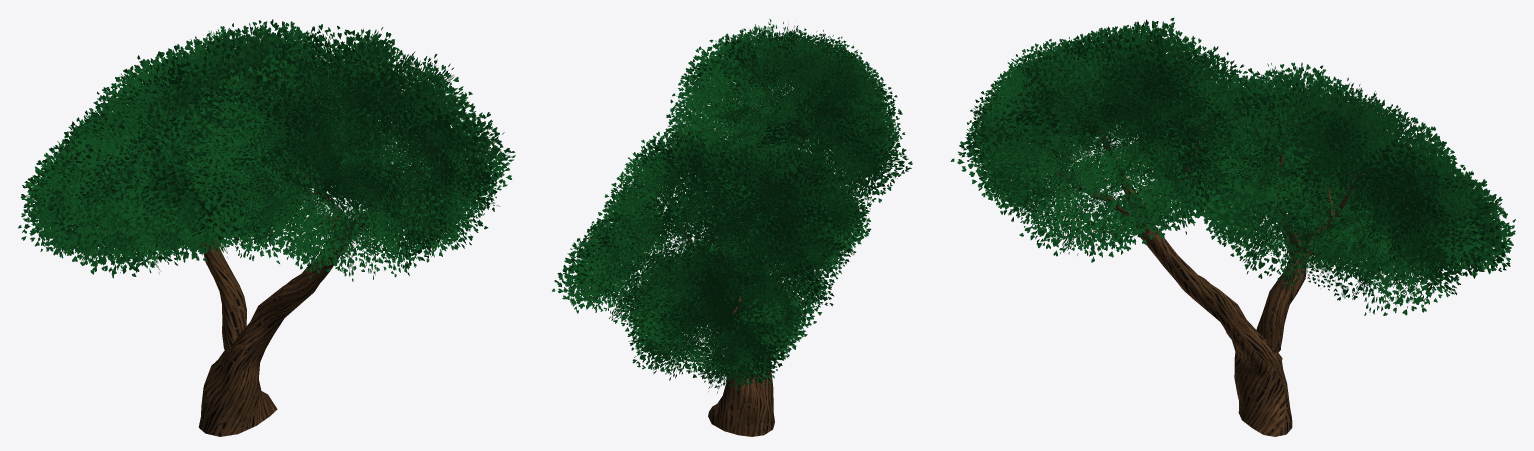
Rendered from Cay 2 - LOD 0.fbx.
3 views of the same model, side by side, from view 1: azimuth 30°, elevation 25°; view 2: azimuth 150°, elevation 25°; view 3: azimuth 270°, elevation 25° (orthographic). The views are drawn at different scales.
Parts seen in each view (by area): view 1: LOD0; view 2: LOD0; view 3: LOD0.
Part boxes in pixels (x1,y1,x2,y2): LOD0: (18, 19, 515, 436); LOD0: (552, 19, 912, 436); LOD0: (950, 17, 1515, 436).
Size of the model in its own units: 968 by 1282 by 1625.
Materials: 2 (2 with a texture image).
